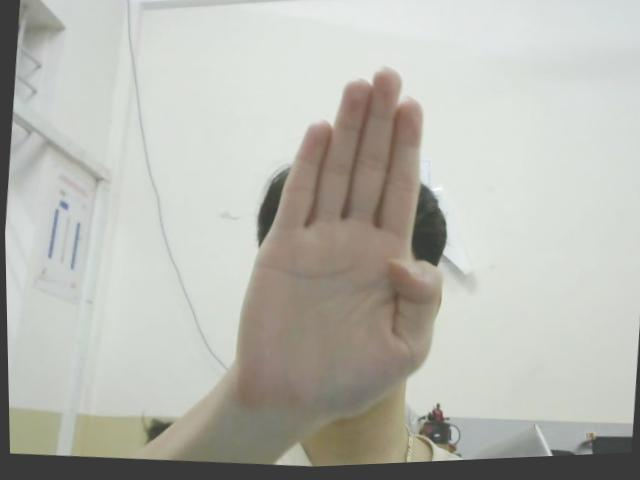B: (224, 55, 461, 435)
